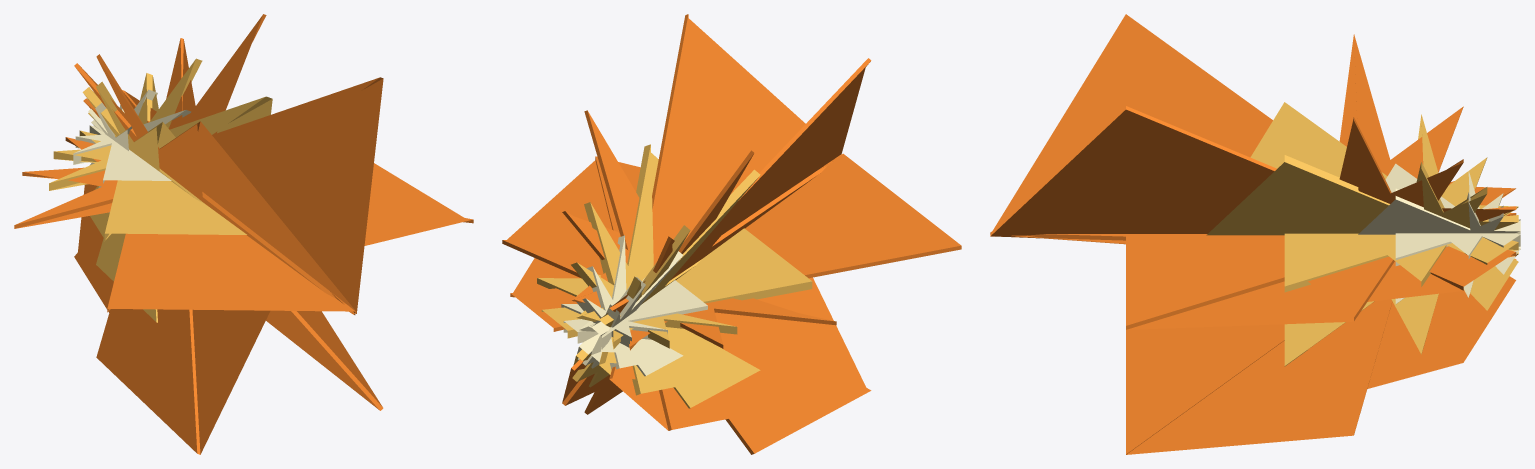
The model's file is muzzle_flash.fbx.
The picture shows the model from 3 angles, left to right: view 1: azimuth 30°, elevation 25°; view 2: azimuth 150°, elevation 25°; view 3: azimuth 270°, elevation 25°; orthographic projection. The views are drawn at different scales.
Visible parts, largest first — view 1: Glow; view 2: Glow; view 3: Glow.
Part boxes in pixels (x1=…): Glow: x1=14, y1=14, x2=473, y2=454; Glow: x1=502, y1=14, x2=961, y2=454; Glow: x1=990, y1=14, x2=1520, y2=454.
Bounding box in the file's own units: 0.9976 × 0.869 × 1.2.
1 material, 1 textured.
